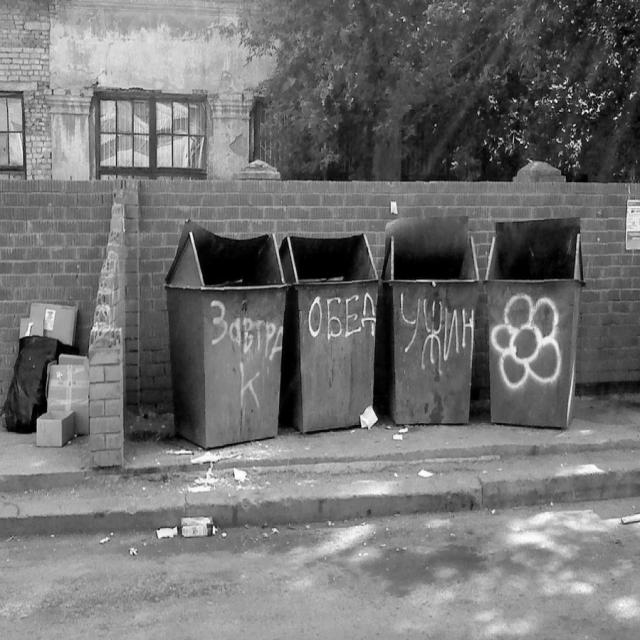Trashcan: (154, 209, 300, 461), (479, 203, 584, 439), (380, 211, 477, 437), (278, 223, 377, 437)
